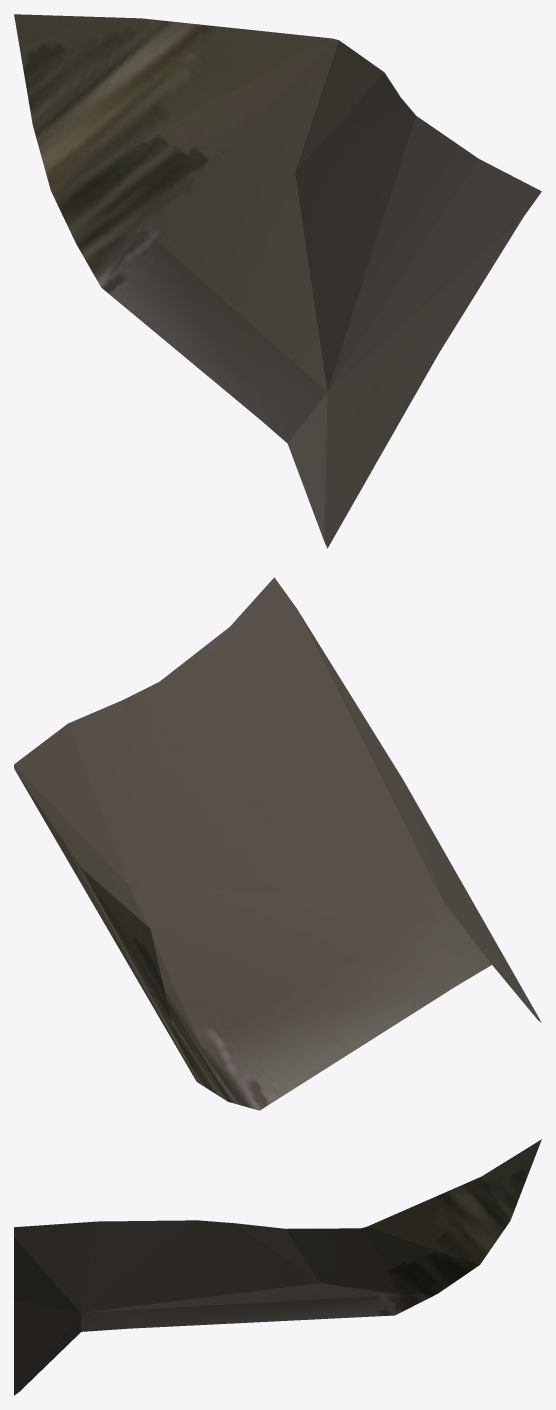
3 renders of one model, top to bottom at view 1: azimuth 30°, elevation 25°; view 2: azimuth 150°, elevation 25°; view 3: azimuth 270°, elevation 25°, orthographic. The views are drawn at different scales.
Bounding box in the file's own units: 0.7968 × 1.06 × 1.98.
Materials: 1 (1 with a texture image).
